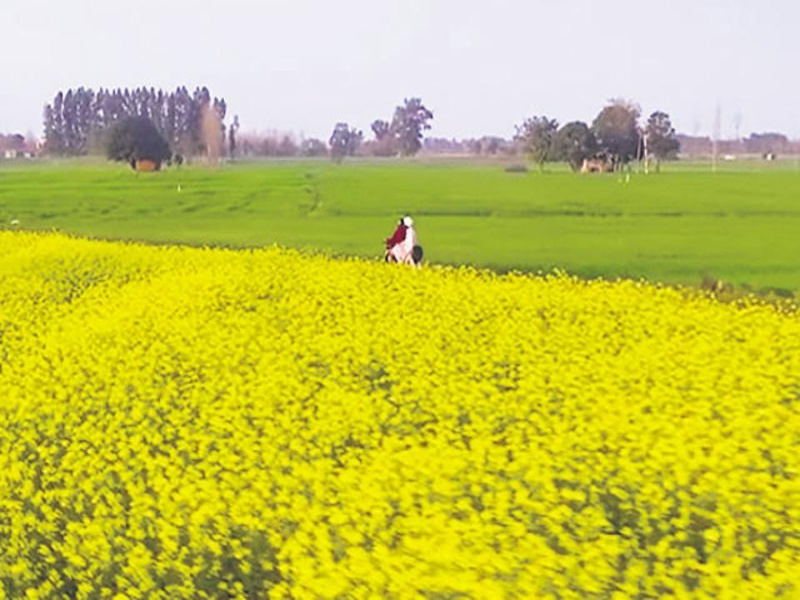mustard: (1, 308, 797, 599), (6, 248, 294, 338)
